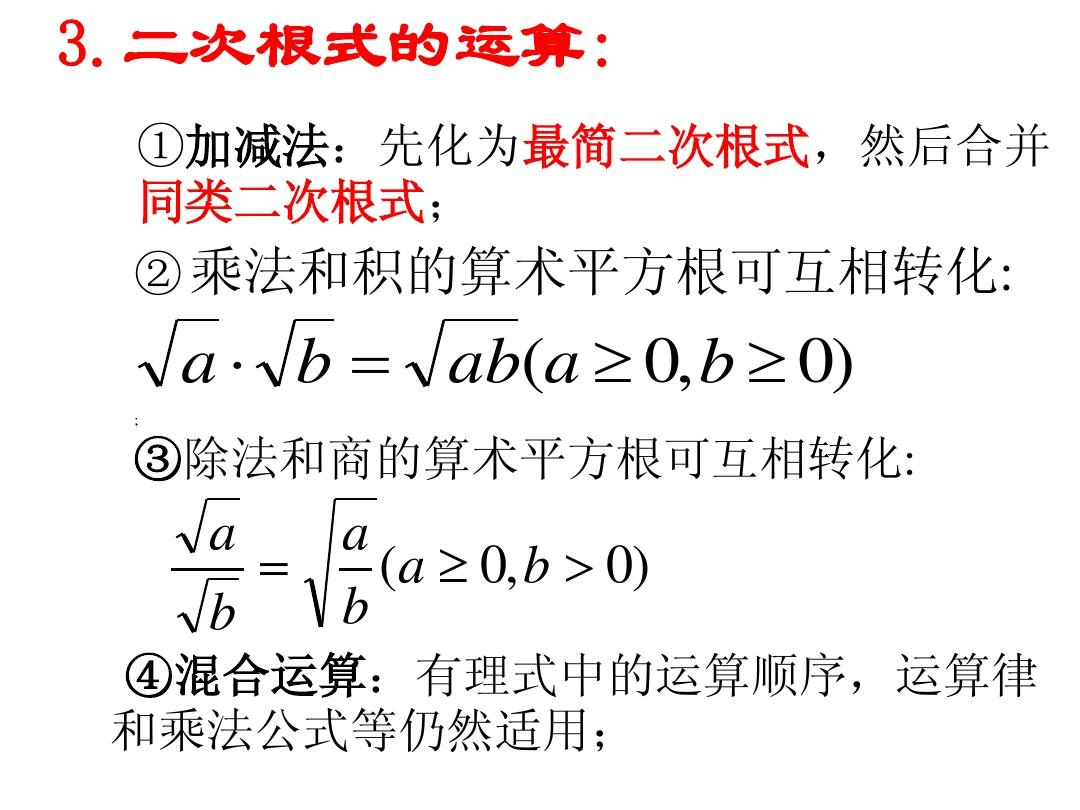division: (162, 558, 243, 578), (331, 559, 378, 580)
sqrt: (302, 492, 379, 635), (410, 314, 515, 393), (138, 314, 217, 389), (258, 311, 331, 392), (169, 574, 238, 636), (181, 493, 238, 562)
